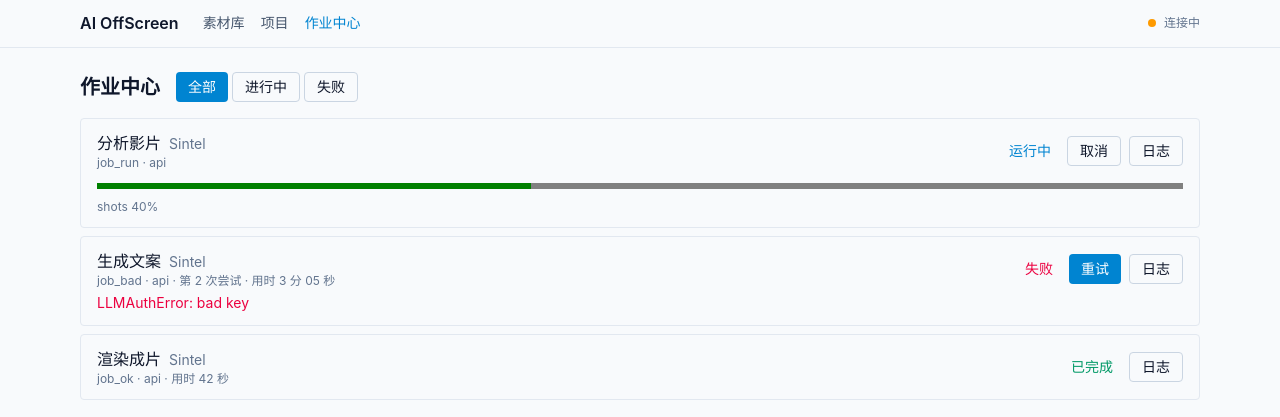
job center › filters by active and failed
This screenshot has width=1280, height=417.
Expected: the list item "分析影片" is shown, [80, 118, 1200, 228]
Click the button "进行中" at {"x": 266, "y": 87}, box [232, 72, 300, 102]
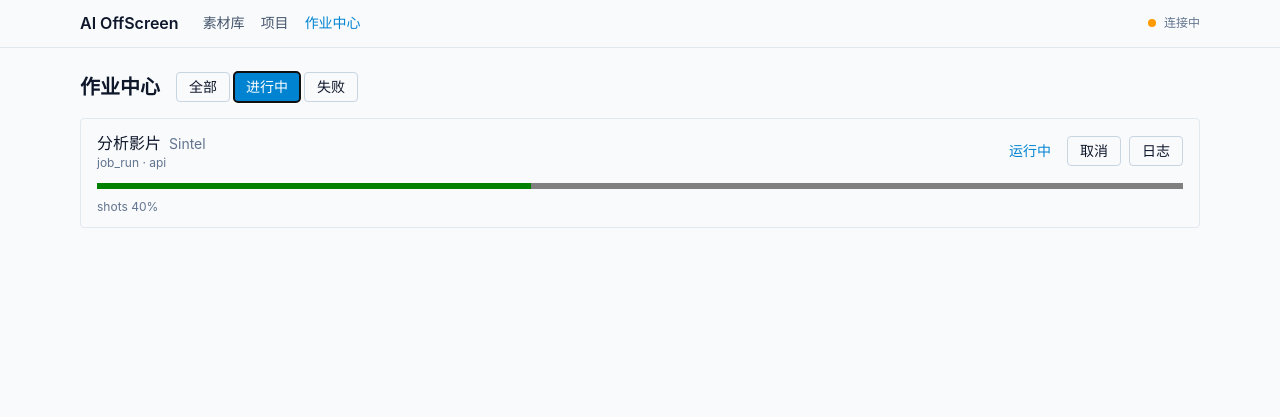
Result: the number of list items is 1 at [80, 118, 1200, 228]
Click the button "失败" at {"x": 331, "y": 87}, box [304, 72, 358, 102]
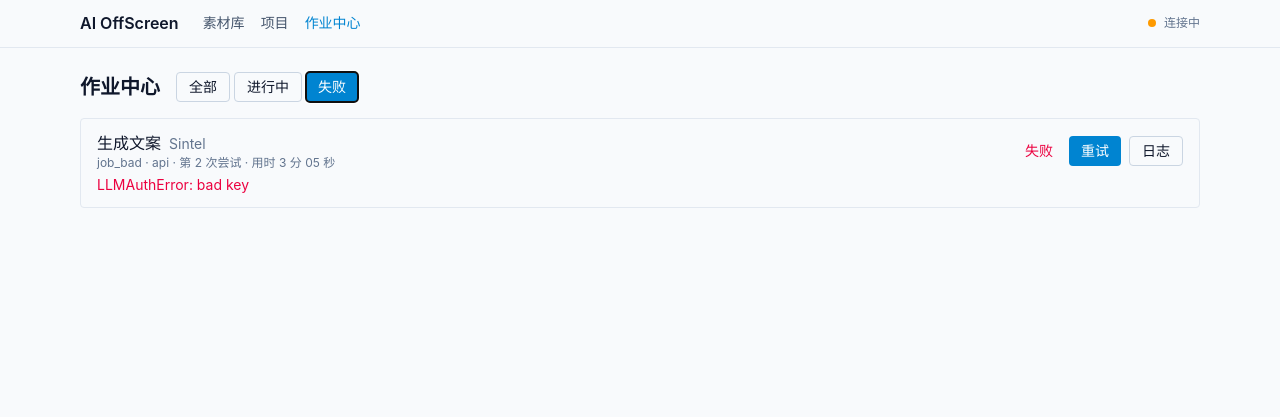
Result: the list item shows "生成文案" at [97, 133, 161, 153]
Click the button "全部" at {"x": 203, "y": 87}, box [176, 72, 230, 102]
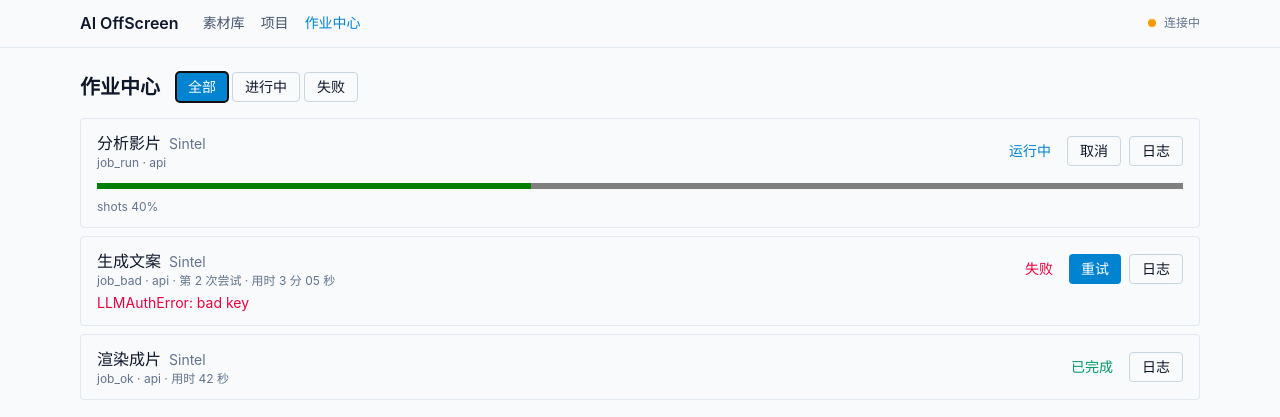
Result: the number of list items is 3 at [80, 118, 1200, 228]; [80, 236, 1200, 326]; [80, 334, 1200, 400]
